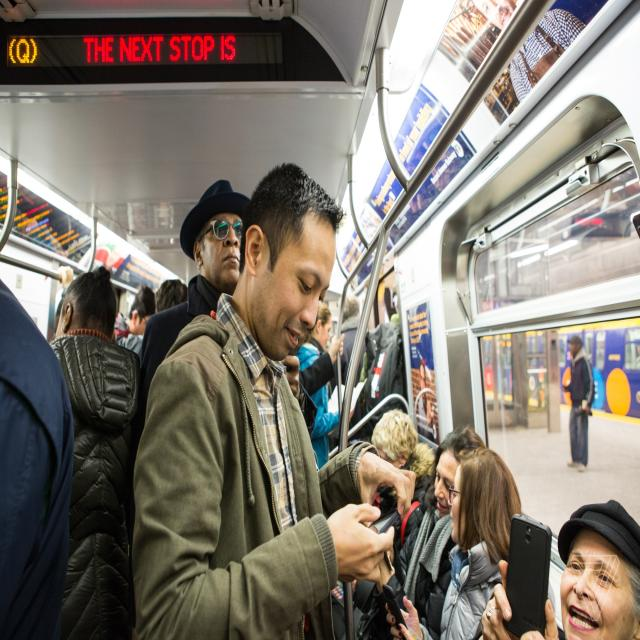body: (126, 165, 432, 640), (49, 266, 147, 640), (132, 178, 253, 462), (356, 425, 486, 639), (0, 272, 71, 639), (368, 436, 488, 640), (471, 496, 640, 640), (474, 0, 589, 106), (296, 298, 357, 470), (370, 408, 437, 520), (332, 296, 378, 444), (362, 310, 408, 439), (115, 280, 189, 357), (563, 335, 596, 473)
